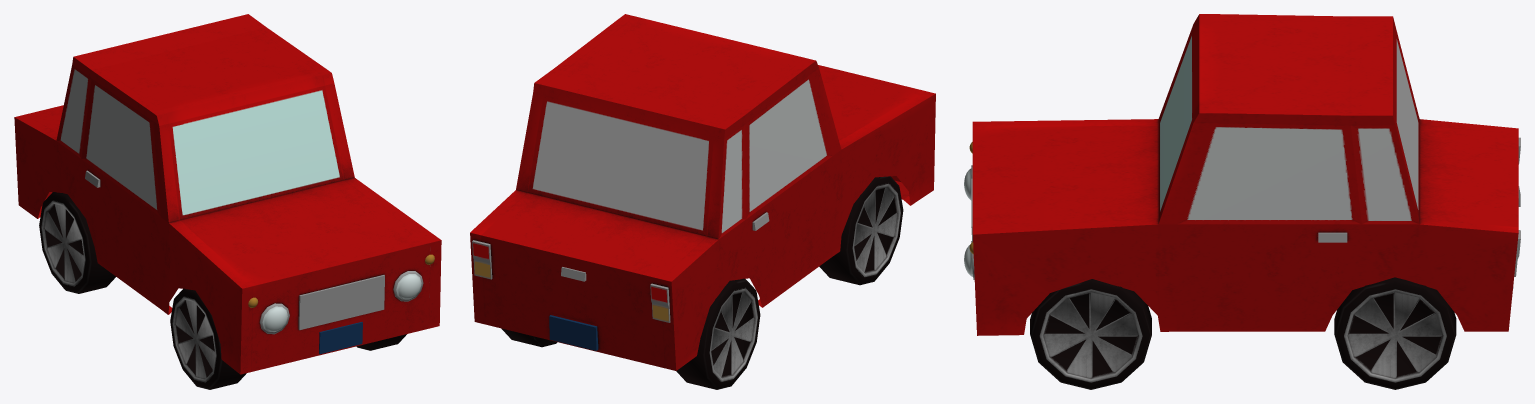
Rendered from Car1.fbx.
3 renders of one model, left to right at view 1: azimuth 30°, elevation 25°; view 2: azimuth 150°, elevation 25°; view 3: azimuth 270°, elevation 25°, orthographic. The views are drawn at different scales.
Visible parts, largest first — view 1: car, BackWheels, FrontWheels; view 2: car, BackWheels, FrontWheels; view 3: car, BackWheels, FrontWheels.
Boxes of the visible parts, box(x1,y1,x2,y2) form: car: box(14, 14, 441, 374); BackWheels: box(39, 192, 115, 293); FrontWheels: box(170, 288, 406, 389); car: box(470, 14, 935, 370); BackWheels: box(501, 278, 760, 389); FrontWheels: box(819, 176, 903, 285); car: box(964, 14, 1520, 335); BackWheels: box(1334, 277, 1456, 389); FrontWheels: box(1030, 279, 1151, 389).
Size of the model in its own units: 216 by 243 by 450.
Materials: 2 (2 with a texture image).
